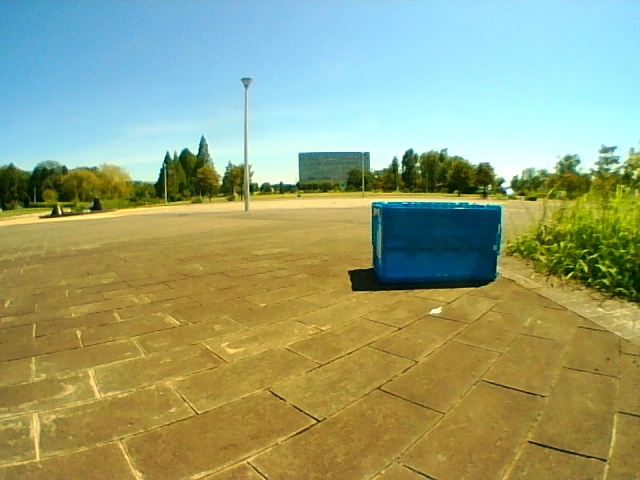blue_box: (372, 204, 496, 279)
